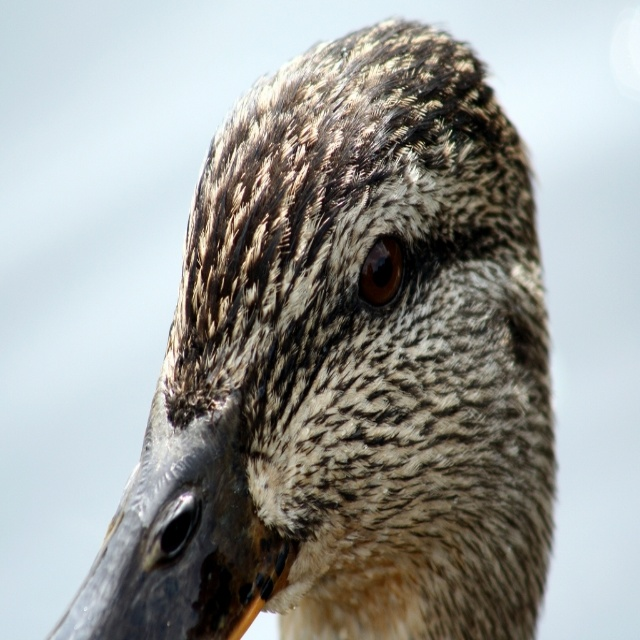Duck: (109, 13, 581, 622)
